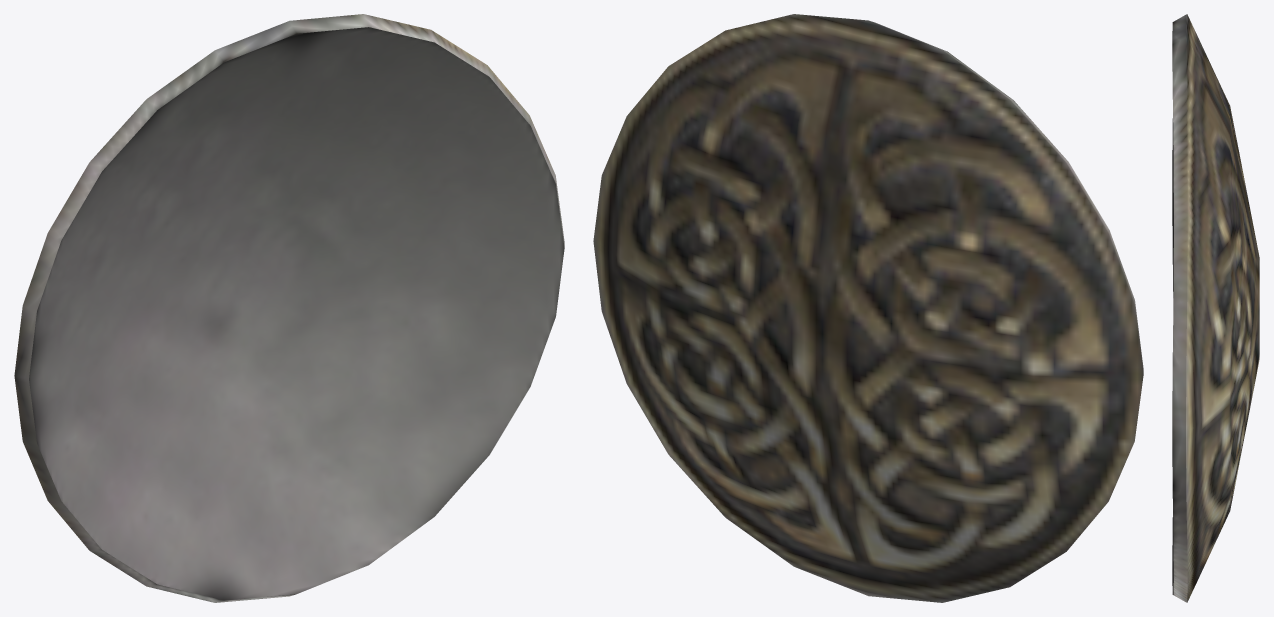
File: Shield02.FBX
The picture shows the model from 3 angles, left to right: view 1: azimuth 30°, elevation 25°; view 2: azimuth 150°, elevation 25°; view 3: azimuth 270°, elevation 25°; orthographic projection. The views are drawn at different scales.
Visible parts, largest first — view 1: Shield002; view 2: Shield002; view 3: Shield002.
Boxes of the visible parts, x1,y1,x2,y2 form: Shield002: (14,14,564,602); Shield002: (593,14,1143,602); Shield002: (1172,14,1259,602).
Size of the model in its own units: 76.39 by 11.19 by 76.39.
